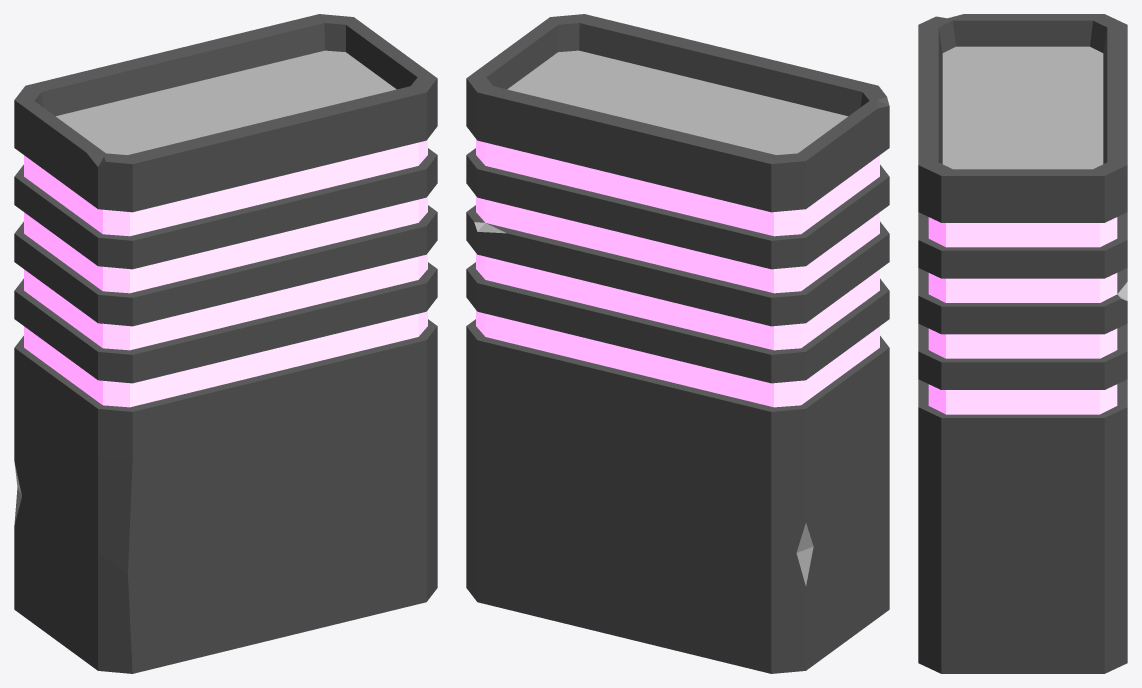
File: basebuildingA.fbx
3 renders of one model, left to right at view 1: azimuth 30°, elevation 25°; view 2: azimuth 150°, elevation 25°; view 3: azimuth 270°, elevation 25°, orthographic. The views are drawn at different scales.
Visible parts, largest first — view 1: SM_Bld_Large_Part_04; view 2: SM_Bld_Large_Part_04; view 3: SM_Bld_Large_Part_04.
Part boxes in pixels (x1,y1,x2,y2): SM_Bld_Large_Part_04: [14, 14, 437, 673]; SM_Bld_Large_Part_04: [466, 14, 889, 673]; SM_Bld_Large_Part_04: [918, 14, 1127, 673].
Size of the model in its own units: 741 by 1064 by 405.
